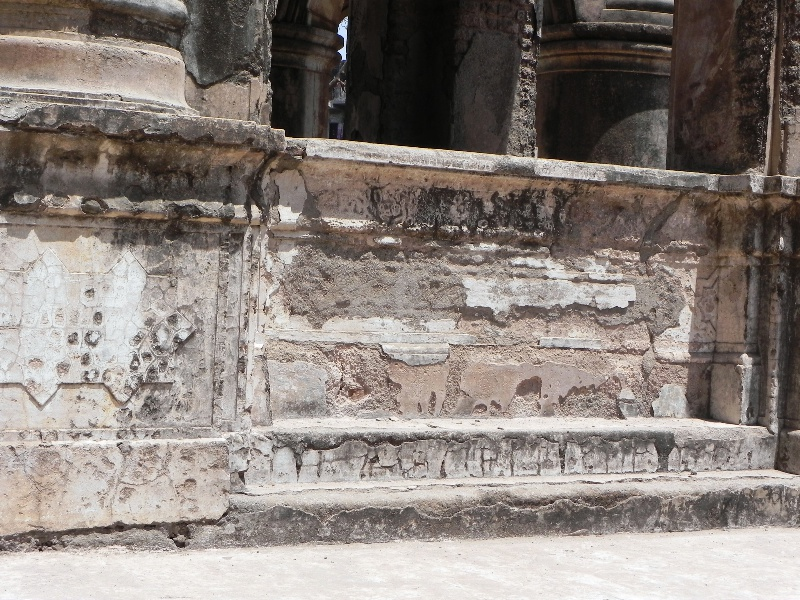Spalling: (293, 340, 408, 413)
